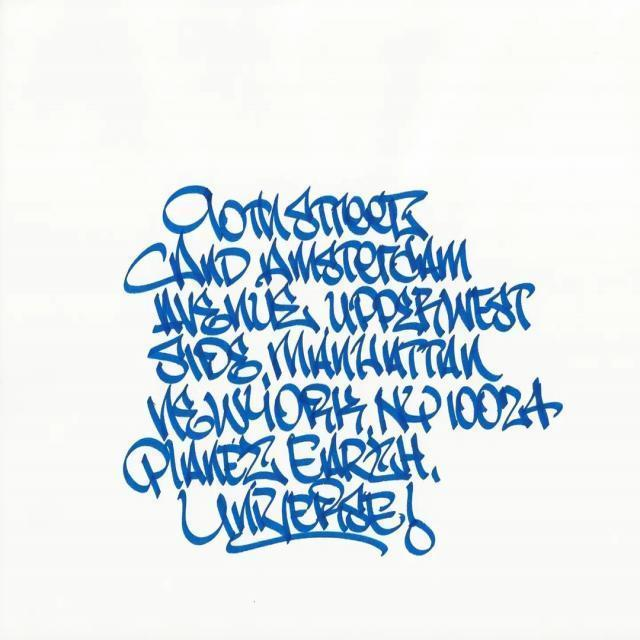nonspitting: (117, 185, 563, 561)
